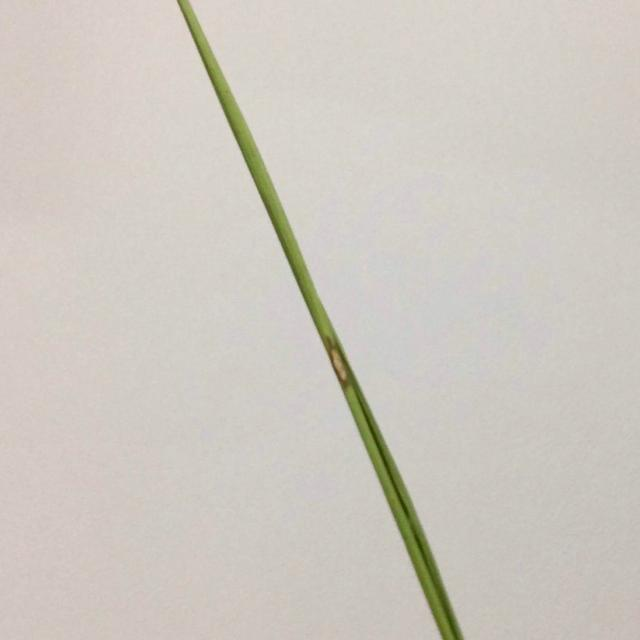Blast: (325, 338, 352, 386)
